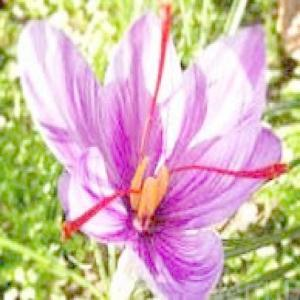Saffron: (17, 13, 282, 300)
